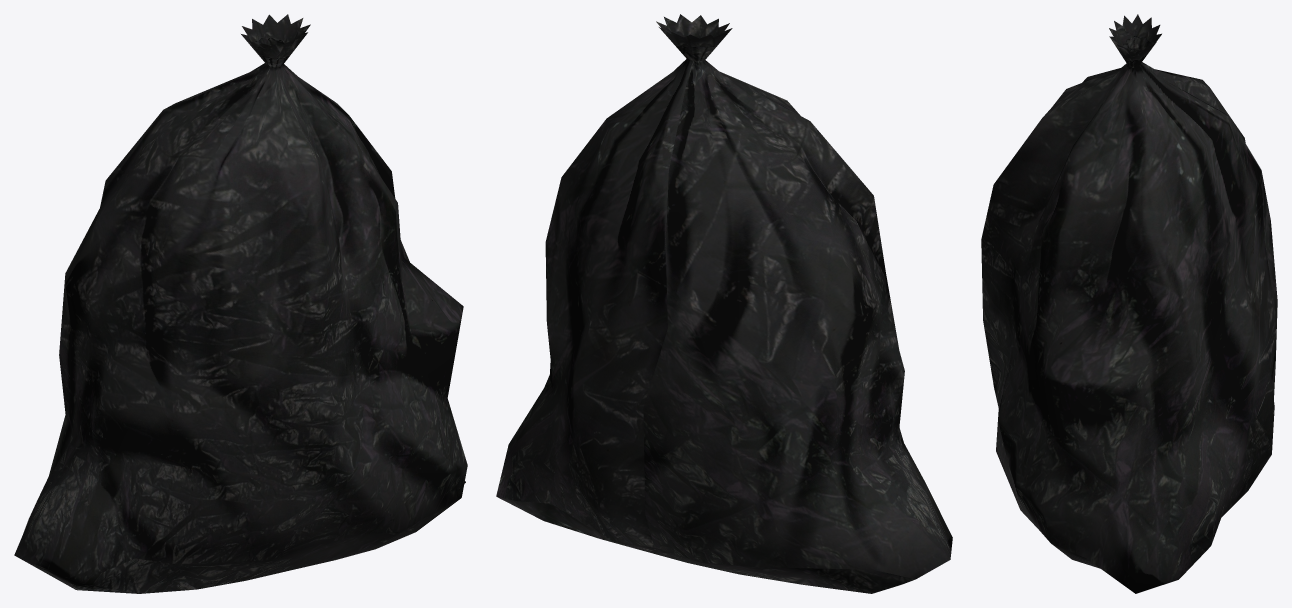
File: trashbag.FBX
The picture shows the model from 3 angles, left to right: view 1: azimuth 30°, elevation 25°; view 2: azimuth 150°, elevation 25°; view 3: azimuth 270°, elevation 25°; orthographic projection. The views are drawn at different scales.
Parts seen in each view (by area): view 1: TrashBag; view 2: TrashBag; view 3: TrashBag.
Part boxes in pixels (x1,y1,x2,y2): TrashBag: (14,14,467,593); TrashBag: (496,14,952,593); TrashBag: (981,14,1277,593).
Bounding box in the file's own units: 83.32 × 93.34 × 50.29.
